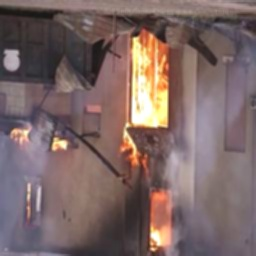fire: (129, 36, 167, 130), (145, 194, 177, 256)
